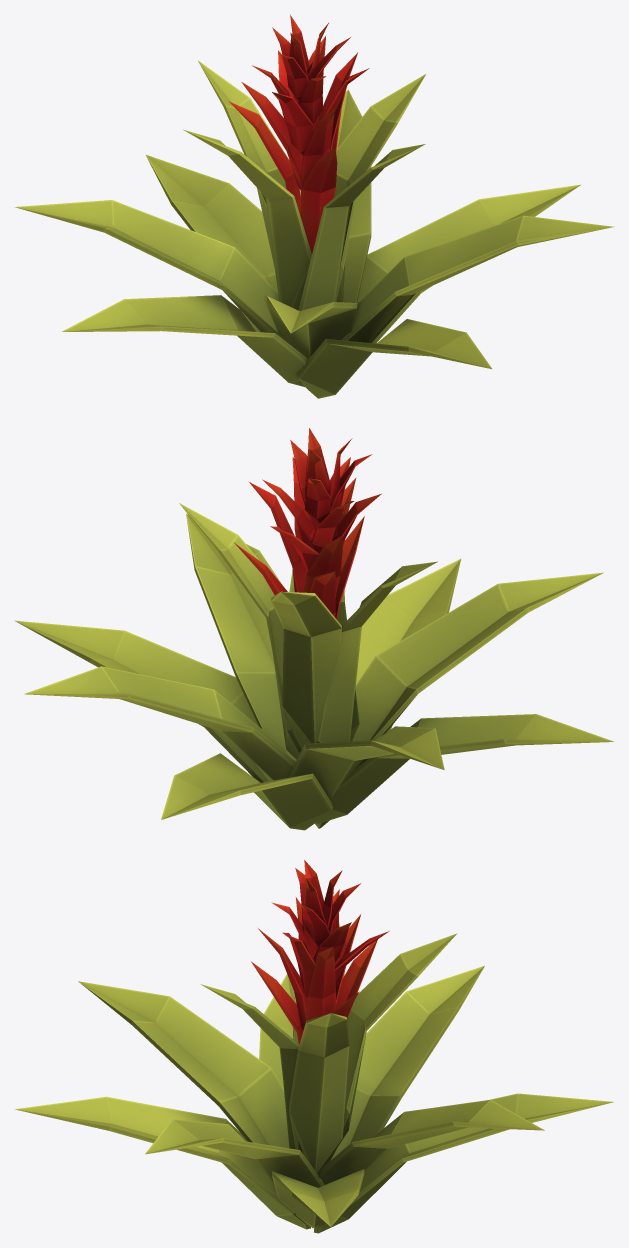
The model's file is Bromeliad.glb.
The picture shows the model from 3 angles, top to bottom: view 1: azimuth 30°, elevation 25°; view 2: azimuth 150°, elevation 25°; view 3: azimuth 270°, elevation 25°; orthographic projection. The views are drawn at different scales.
Parts seen in each view (by area): view 1: Bromeliads_mesh; view 2: Bromeliads_mesh; view 3: Bromeliads_mesh.
Boxes of the visible parts, left/top/right/bottom form: Bromeliads_mesh: left=14, top=14, right=614, bottom=398; Bromeliads_mesh: left=14, top=428, right=614, bottom=830; Bromeliads_mesh: left=15, top=860, right=613, bottom=1233.
Bounding box in the file's own units: 6.83 × 4.5 × 6.86.
1 material, 1 textured.
